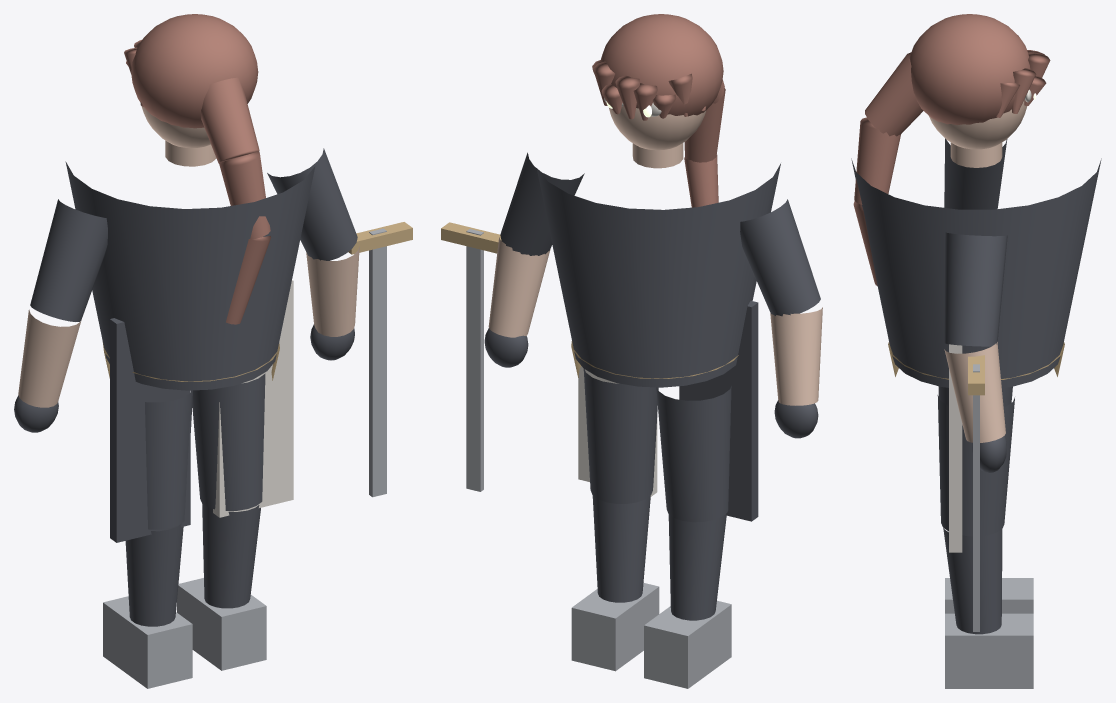
Rendered from laila-procedural-v1.glb.
3 renders of one model, left to right at view 1: azimuth 30°, elevation 25°; view 2: azimuth 150°, elevation 25°; view 3: azimuth 270°, elevation 25°, orthographic. The views are drawn at different scales.
Visible parts, largest first — view 1: Outfit_Torso, Hair_Cap, Outfit_CoatTail_L, Body_Thigh_R, Body_UpperArm_L, Outfit_CoatTail_R, Outfit_Boot_L, Body_Thigh_L, Outfit_Boot_R, Body_Shin_R, Body_Shin_L, Weapon_SwordBlade (+11 smaller); view 2: Outfit_Torso, Body_Thigh_L, Body_Thigh_R, Hair_Cap, Outfit_CoatTail_L, Body_UpperArm_L, Outfit_Boot_L, Outfit_Boot_R, Body_Shin_R, Body_Shin_L, Weapon_SwordBlade, Body_Forearm_L (+11 smaller); view 3: Outfit_Torso, Hair_Cap, Body_UpperArm_R, Outfit_Boot_R, Body_Thigh_R, Body_Shin_R, Body_Forearm_R, Body_UpperArm_L, Hair_Ponytail_0, Hair_Ponytail_1, Outfit_CoatTail_R, Body_Head (+9 smaller).
Part boxes in pixels (left/top/right/bottom): Outfit_Torso: left=65, top=161, right=315, bottom=390; Hair_Cap: left=131, top=14, right=258, bottom=128; Outfit_CoatTail_L: left=110, top=318, right=190, bottom=542; Body_Thigh_R: left=191, top=373, right=265, bottom=510; Body_UpperArm_L: left=30, top=199, right=107, bottom=321; Outfit_CoatTail_R: left=213, top=280, right=293, bottom=517; Outfit_Boot_L: left=103, top=596, right=192, bottom=688; Body_Thigh_L: left=145, top=390, right=192, bottom=529; Outfit_Boot_R: left=177, top=578, right=266, bottom=670; Body_Shin_R: left=202, top=503, right=260, bottom=608; Body_Shin_L: left=125, top=523, right=183, bottom=626; Weapon_SwordBlade: left=369, top=228, right=386, bottom=497; Outfit_Torso: left=536, top=163, right=780, bottom=387; Body_Thigh_L: left=656, top=386, right=731, bottom=522; Body_Thigh_R: left=583, top=369, right=658, bottom=503; Hair_Cap: left=601, top=14, right=723, bottom=116; Outfit_CoatTail_L: left=679, top=301, right=758, bottom=521; Body_UpperArm_L: left=740, top=199, right=820, bottom=316; Outfit_Boot_L: left=644, top=600, right=731, bottom=688; Outfit_Boot_R: left=571, top=583, right=659, bottom=671; Body_Shin_R: left=592, top=495, right=650, bottom=602; Body_Shin_L: left=668, top=514, right=726, bottom=620; Weapon_SwordBlade: left=466, top=229, right=483, bottom=491; Body_Forearm_L: left=770, top=307, right=822, bottom=405; Outfit_Torso: left=851, top=158, right=1101, bottom=387; Hair_Cap: left=909, top=14, right=1030, bottom=125; Body_UpperArm_R: left=944, top=232, right=1007, bottom=346; Outfit_Boot_R: left=945, top=613, right=1033, bottom=688; Body_Thigh_R: left=937, top=395, right=1014, bottom=536; Body_Shin_R: left=943, top=528, right=1002, bottom=634; Body_Forearm_R: left=944, top=342, right=1005, bottom=442; Body_UpperArm_L: left=944, top=138, right=1007, bottom=209; Hair_Ponytail_0: left=865, top=52, right=923, bottom=136; Hair_Ponytail_1: left=854, top=117, right=900, bottom=204; Outfit_CoatTail_R: left=949, top=344, right=962, bottom=552; Body_Head: left=929, top=100, right=1026, bottom=149.
Bounding box in the file's own units: 1.17 × 1.86 × 0.6609.
